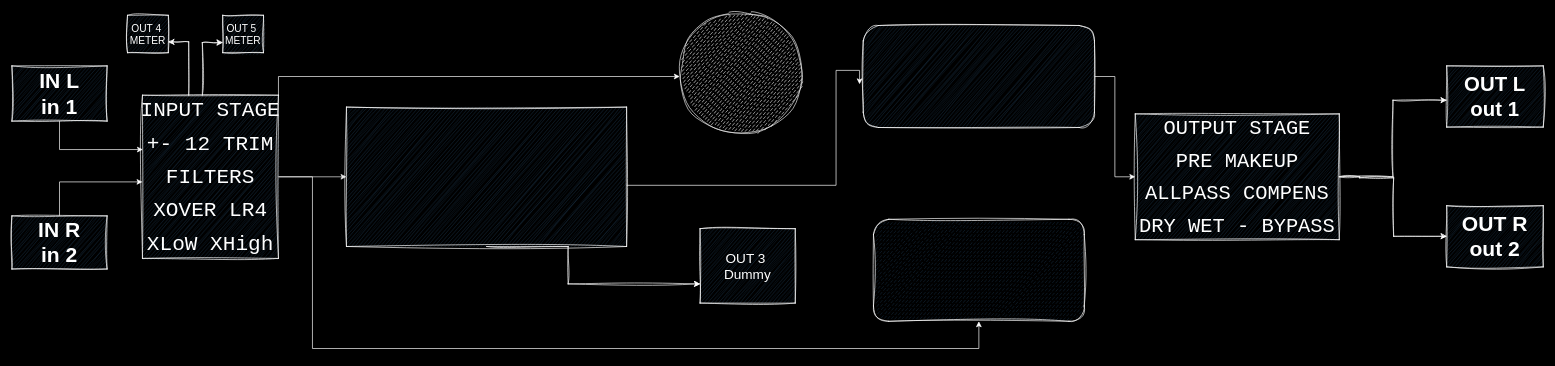
This 1555x366 diagram has some shape labels left out. The shapes that lost their labels are listed below. From the top down, each one's centre as x and y in pixels, then its label:
At (x=740, y=72): "Xover LR4".
At (x=978, y=76): "EFFECT CHAIN BIT CRUSHER DECIMATOR".
At (x=486, y=176): "DISTORTION CORE 8 MODES (0-7) DRIVE - +DC (even) MODE - CEIL".
At (x=978, y=270): "LR4-DRY-AllpassCompensated".
